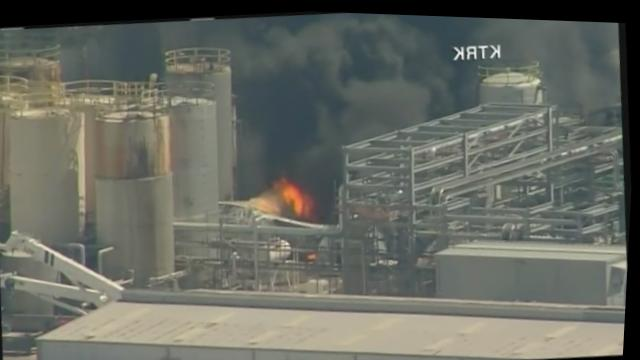fire: (275, 176, 309, 218)
smoke: (236, 7, 415, 136), (64, 12, 244, 59), (535, 16, 626, 105), (238, 122, 346, 178), (404, 12, 542, 45), (406, 37, 459, 111), (71, 49, 160, 80), (319, 173, 343, 212)
